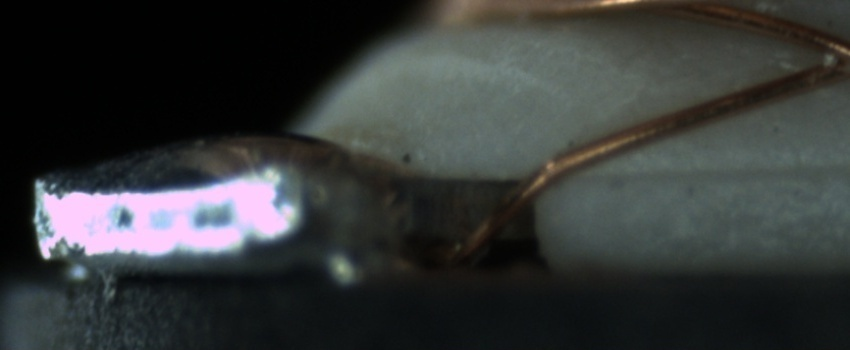CL: (803, 26, 850, 89)
DL: (605, 138, 847, 204)
